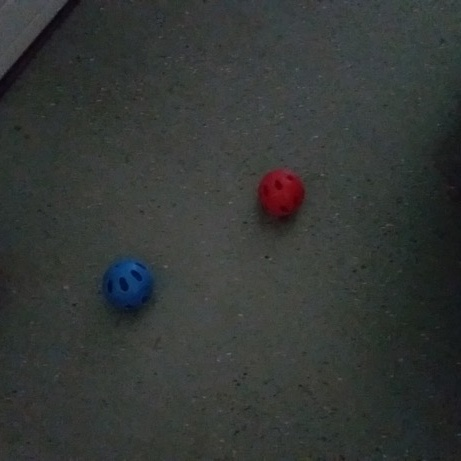blueball: (98, 256, 156, 317)
redball: (255, 166, 307, 219)
